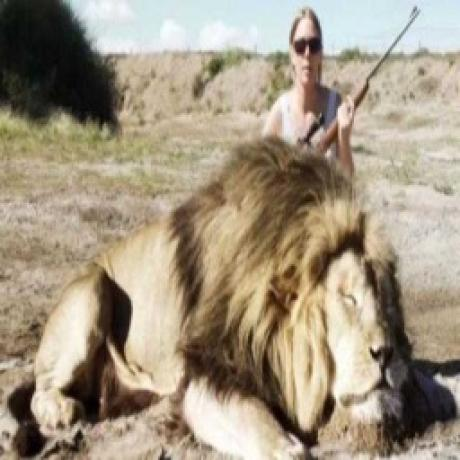Lion: (29, 129, 418, 460)
